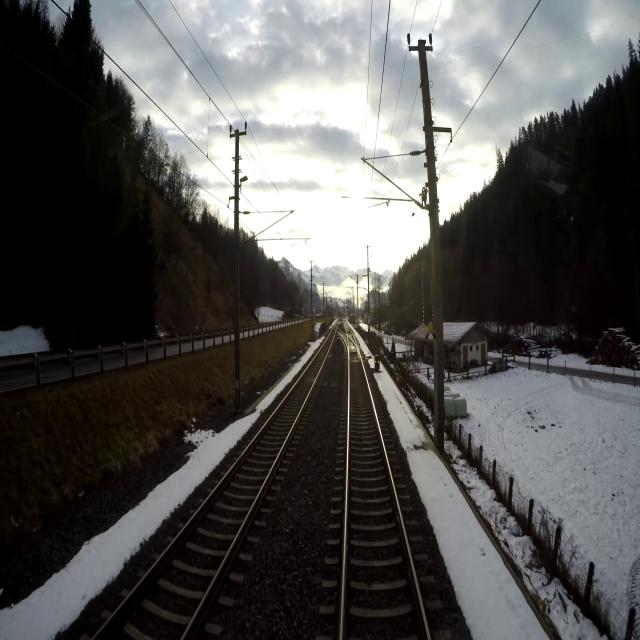rail-track: (96, 331, 334, 639), (344, 341, 427, 639), (339, 318, 344, 330)
